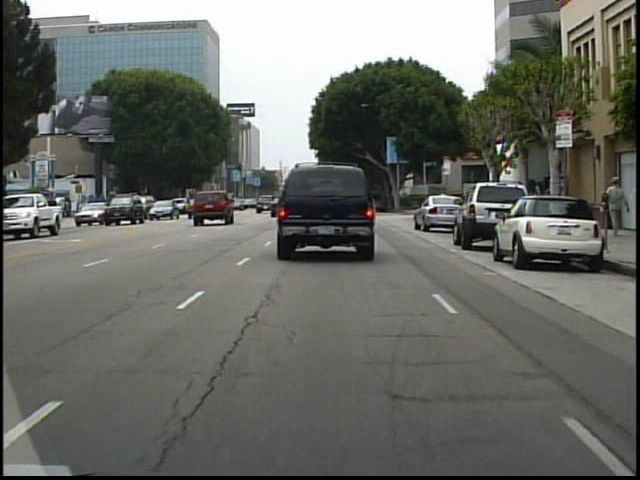person: (600, 172, 624, 237), (480, 176, 500, 221), (435, 186, 452, 223), (30, 199, 46, 226)
